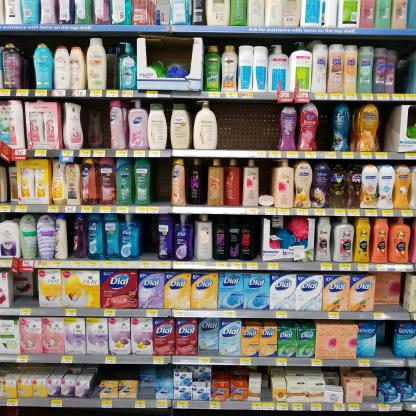Void: (221, 103, 275, 146), (86, 104, 110, 146), (20, 42, 35, 90), (14, 271, 35, 304), (142, 219, 157, 263), (318, 103, 332, 150), (154, 162, 170, 203), (99, 367, 137, 379), (397, 45, 406, 93), (379, 325, 391, 355), (263, 374, 271, 398)
